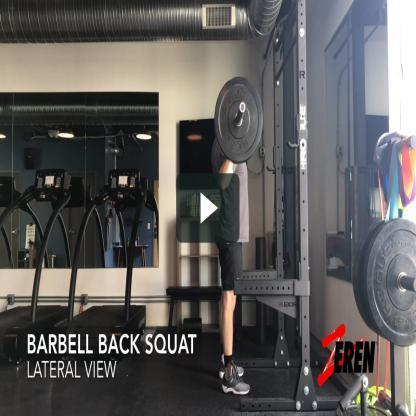barbell: (351, 215, 416, 347), (214, 74, 266, 164)
